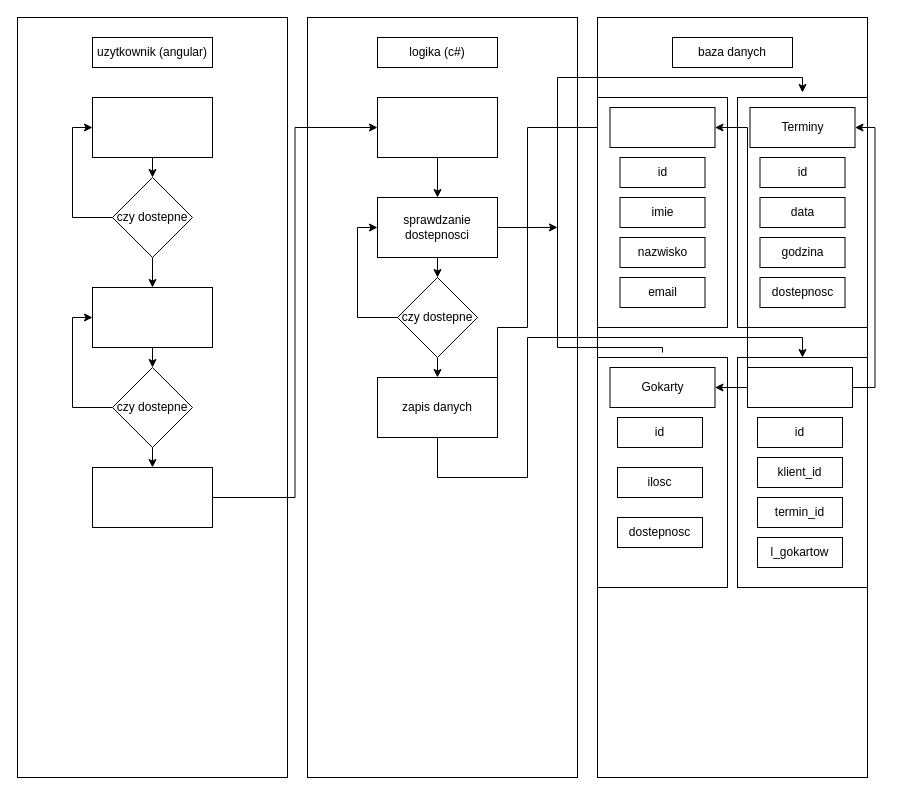
Some shapes in this 901 by 795 pixel diagram are drawn without their labels. The shapes that lost their labels are listed below. From the top down, each one's centre as x and y in pixels, then its label:
At point 152,127: "wybor daty".
At point 437,127: "obsluga rezerwacji".
At point 662,127: "Klienci".
At point 152,317: "wybor godziny".
At point 799,387: "Rezerwacje".
At point 152,497: "wybor il. gokartow".
